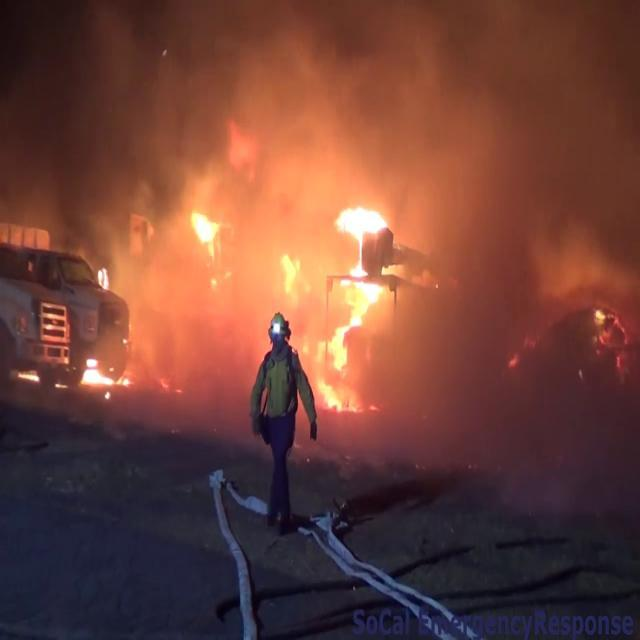Fire: (290, 194, 406, 398), (186, 201, 228, 264), (77, 352, 132, 396)
Smoke: (50, 0, 639, 349)
